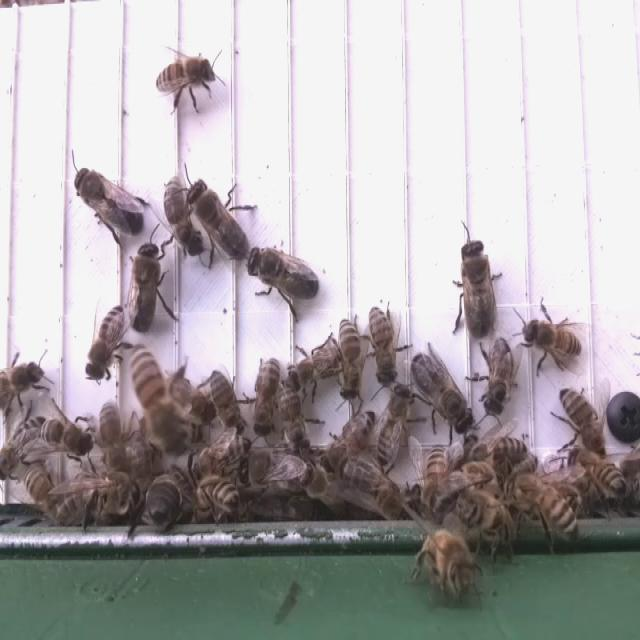Drone: (184, 175, 255, 266), (409, 349, 477, 442), (71, 162, 146, 241), (244, 241, 322, 310), (456, 235, 501, 339), (129, 240, 164, 338)
Worker: (130, 342, 185, 457), (517, 306, 584, 372), (374, 384, 421, 474), (282, 337, 342, 402), (319, 408, 377, 475), (555, 384, 607, 458), (85, 298, 128, 387), (160, 173, 204, 258), (363, 304, 406, 388), (329, 312, 367, 407), (37, 412, 100, 469), (182, 470, 244, 525), (151, 51, 219, 101), (0, 410, 49, 479), (479, 335, 518, 419), (247, 348, 280, 441), (202, 370, 249, 432), (97, 397, 130, 479)
